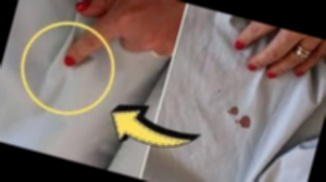blood: (226, 105, 254, 130)
